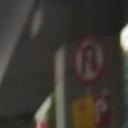NoVirarU: (73, 38, 105, 81)
